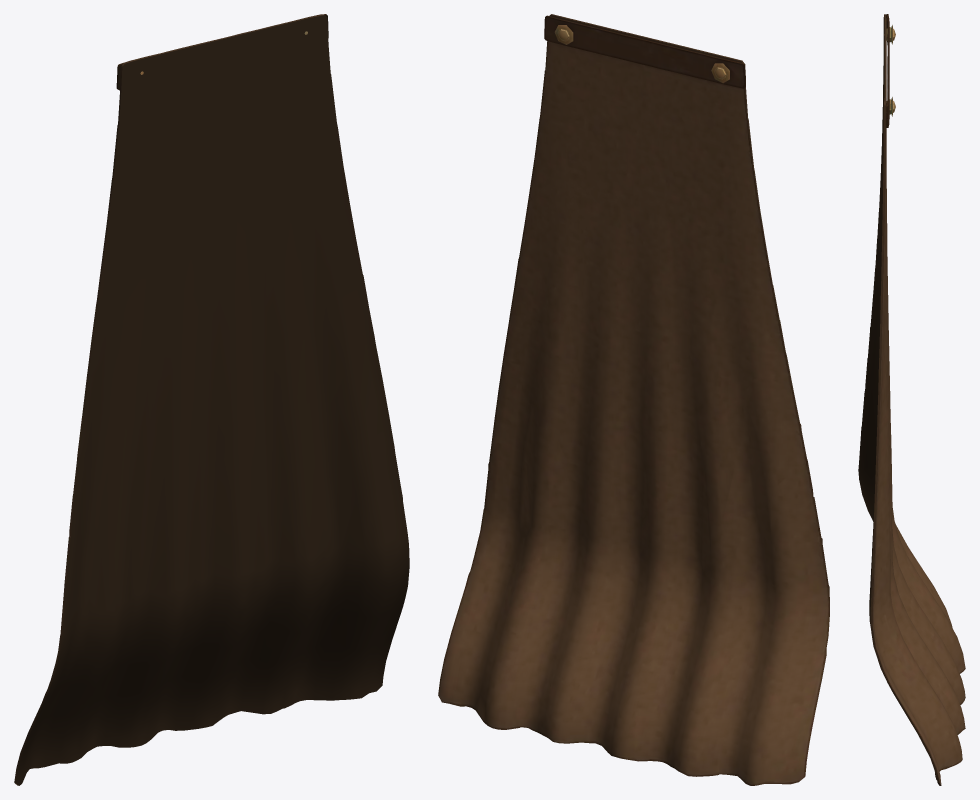
The model's file is cape_wool.glb.
3 views of the same model, side by side, from view 1: azimuth 30°, elevation 25°; view 2: azimuth 150°, elevation 25°; view 3: azimuth 270°, elevation 25° (orthographic). The views are drawn at different scales.
Parts seen in each view (by area): view 1: cape; view 2: cape; view 3: cape.
Boxes of the visible parts, x1,y1,x2,y2 form: cape: (14,14,409,785); cape: (438,14,829,785); cape: (858,14,965,785).
Bounding box in the file's own units: 0.55 × 1.01 × 0.1507.
1 material, 1 textured.
